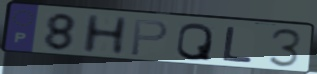3: (267, 27, 304, 70)
8: (43, 12, 79, 53)
H: (79, 13, 131, 56)
L: (221, 25, 256, 64)
P: (128, 18, 170, 58)
Q: (174, 21, 215, 62)
